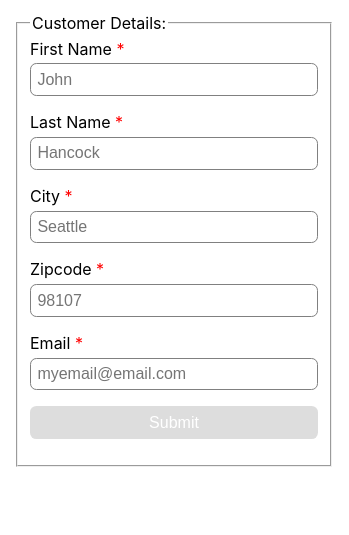
Test case: Address Form Zipcode Tests › It renders Address Form Zipcode error if value is not 5 characters long
The width and height of the screenshot is (349, 535).
Type "1234" into the field with placeholder "98107".
click(174, 300); type("1234")  # box 30,284 -> 318,317
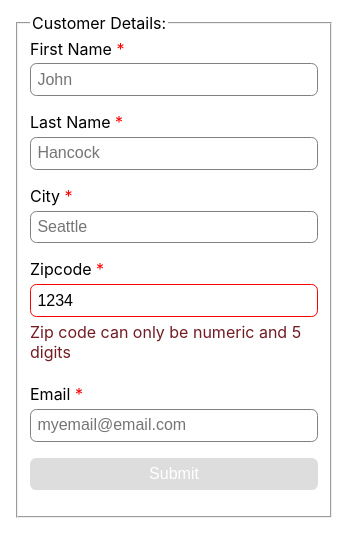
Check: the text "Zip code can only be numeric and 5 digits" is shown, box 30,322 -> 301,362
